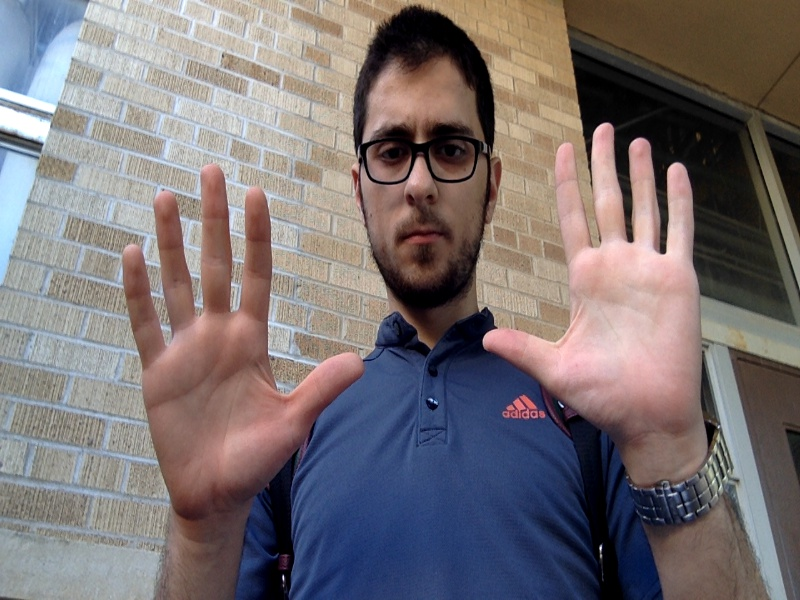5-hand: (125, 167, 360, 515), (482, 124, 702, 440)
